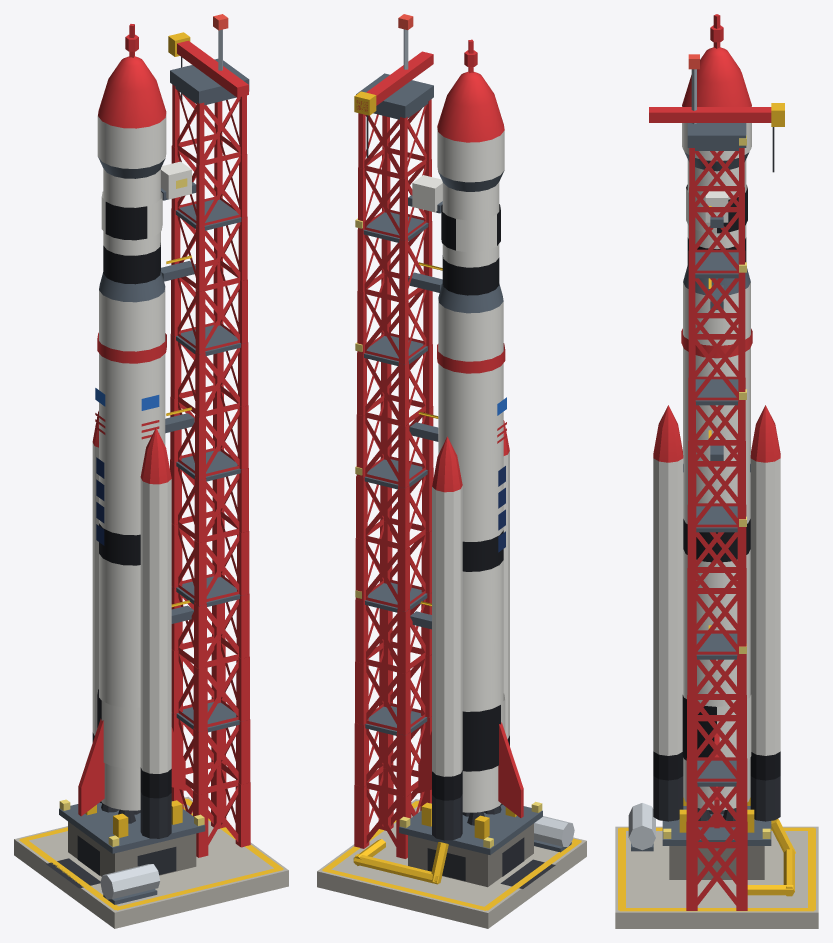
The model's file is rocket.glb.
3 renders of one model, left to right at view 1: azimuth 30°, elevation 25°; view 2: azimuth 150°, elevation 25°; view 3: azimuth 270°, elevation 25°, orthographic. The views are drawn at different scales.
Parts seen in each view (by area): view 1: Body; view 2: Body; view 3: Body.
Boxes of the visible parts, x1=… form: Body: x1=14, y1=14, x2=288, y2=928; Body: x1=317, y1=14, x2=586, y2=928; Body: x1=615, y1=14, x2=818, y2=928.
Bounding box in the file's own units: 0.91 × 4.2 × 0.9.
